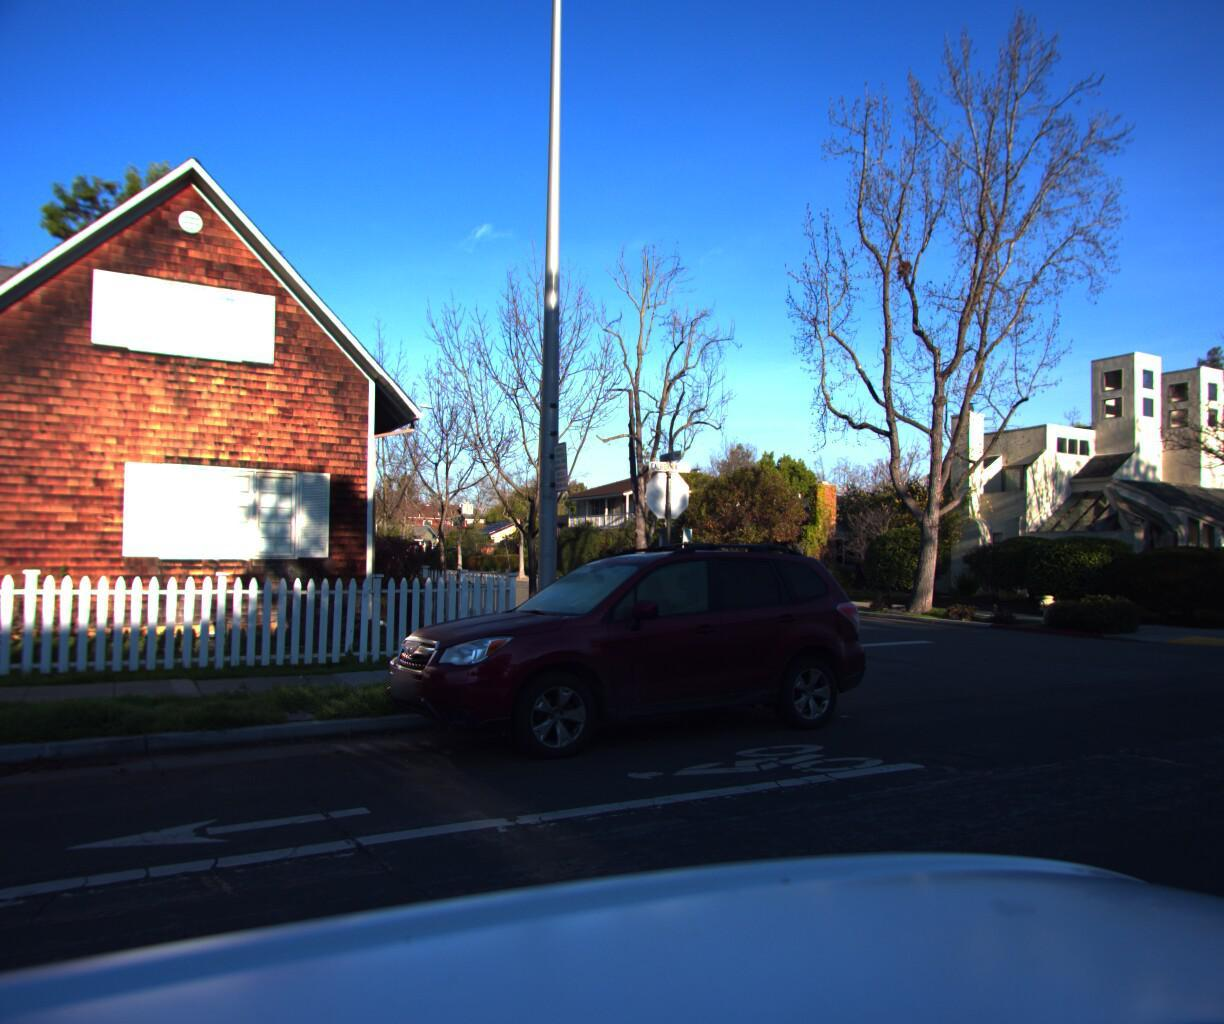car: (342, 532, 906, 794)
